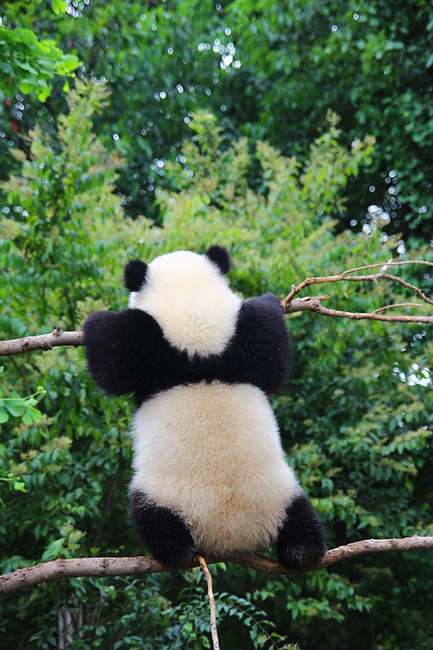panda: (67, 245, 350, 583)
